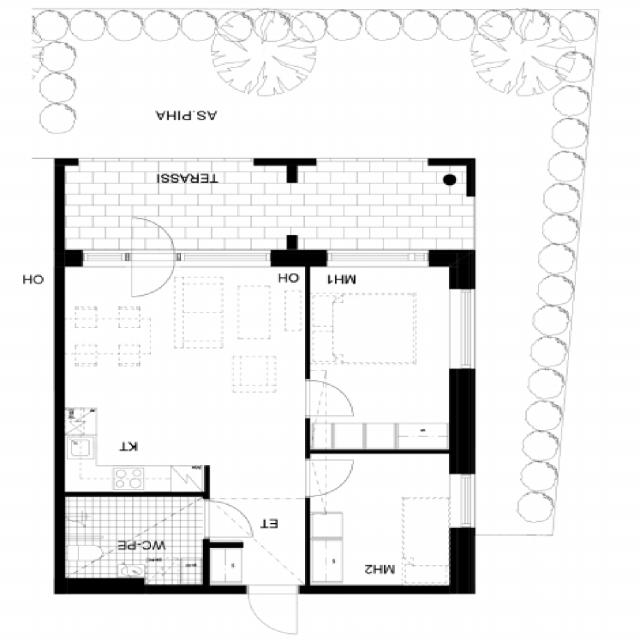door: (248, 586, 298, 634), (131, 250, 175, 303), (131, 214, 175, 266), (204, 499, 254, 536), (305, 459, 354, 496), (305, 380, 352, 416)
